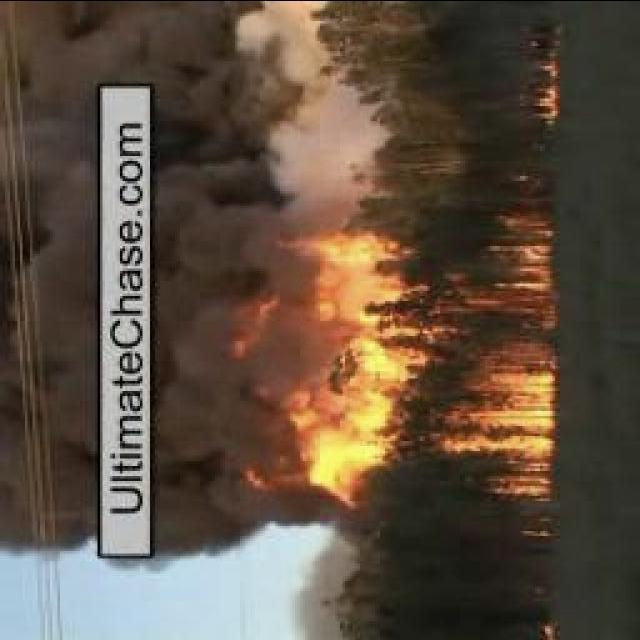Fire: (245, 212, 560, 494), (524, 54, 561, 125)
